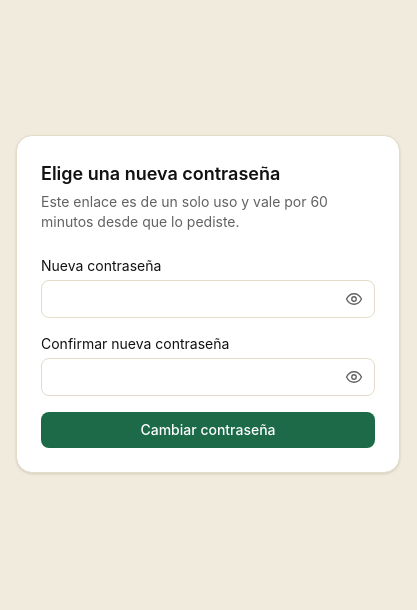
Test: RestablecerPasswordView › shows the expired-link error with a way to request a new one
Step 1. Type "NuevaClave#2026Segura" into the password field labelled "Nueva contraseña" → (208, 299), box [41,280,375,318]
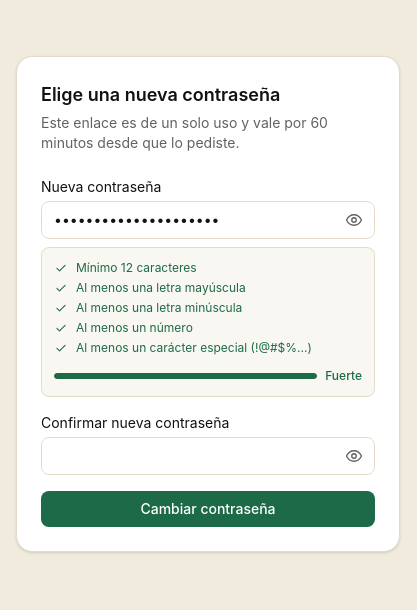
Step 2. Type "NuevaClave#2026Segura" into the password field labelled "Confirmar nueva contraseña" → (208, 456), box [41,437,375,475]
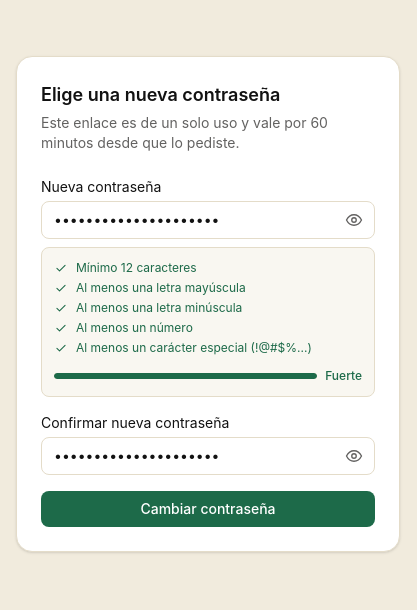
Step 3. Submit the form, box [41,177,375,527]
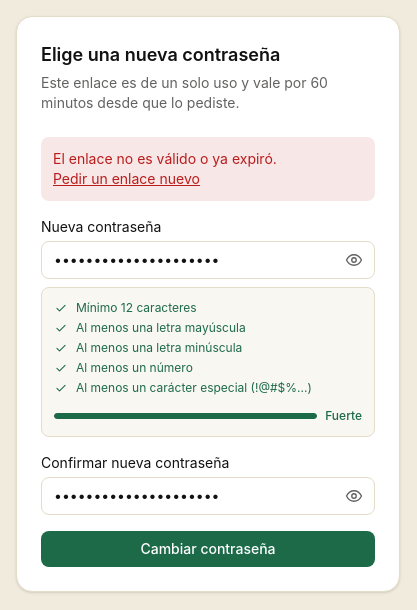
Result: the text "no es válido o ya expiró" is shown at [53,150,277,167]
Result: the text "Pedir un enlace nuevo" is shown at [53,170,200,187]
